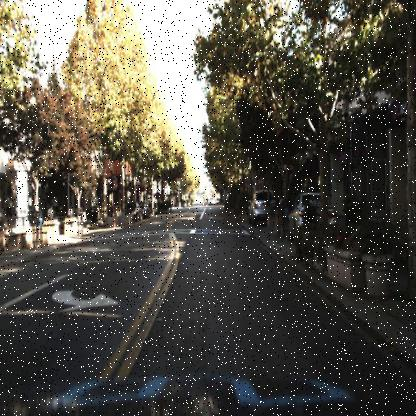car: (288, 192, 338, 238), (248, 187, 276, 227), (121, 198, 147, 224), (139, 198, 153, 221)
